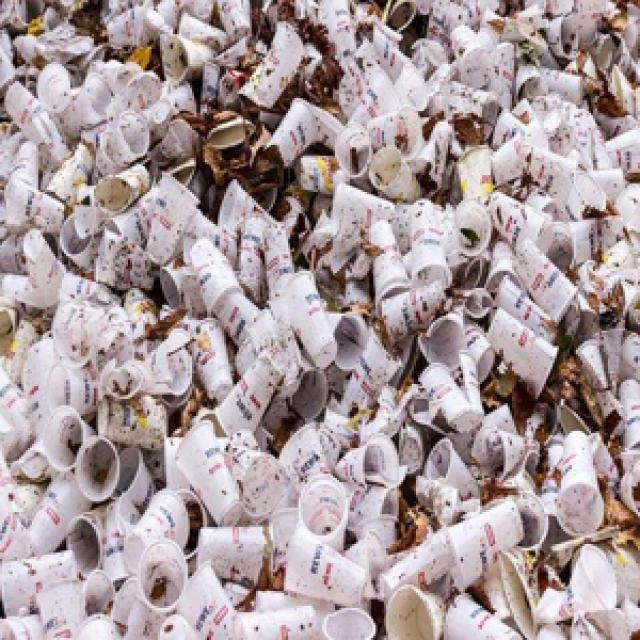plastic cup: (171, 418, 245, 529), (529, 542, 623, 629), (446, 497, 529, 595), (275, 266, 346, 376), (278, 525, 372, 608), (482, 305, 563, 399), (19, 467, 98, 563), (211, 348, 286, 446), (141, 166, 207, 271), (170, 554, 247, 640), (120, 486, 194, 574), (553, 424, 608, 538), (510, 235, 582, 322), (4, 548, 83, 621), (346, 327, 408, 418), (418, 431, 487, 508), (406, 194, 456, 297), (183, 314, 237, 408), (34, 356, 111, 421), (188, 237, 245, 324), (365, 217, 414, 318), (275, 420, 337, 499), (2, 170, 75, 237), (213, 179, 294, 239), (294, 472, 352, 554), (489, 188, 563, 252), (34, 408, 103, 473), (437, 586, 518, 640), (156, 30, 230, 89), (376, 582, 450, 640), (15, 230, 72, 305), (265, 96, 320, 173), (232, 211, 278, 303), (365, 102, 433, 164), (362, 143, 428, 205), (2, 81, 62, 147), (62, 70, 115, 141), (330, 121, 380, 188), (448, 22, 495, 88), (612, 369, 640, 454)
